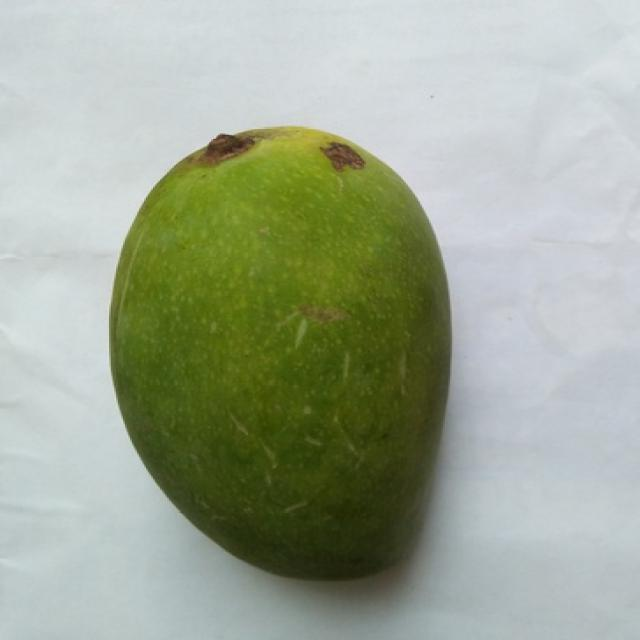Mango: (111, 128, 450, 578)
